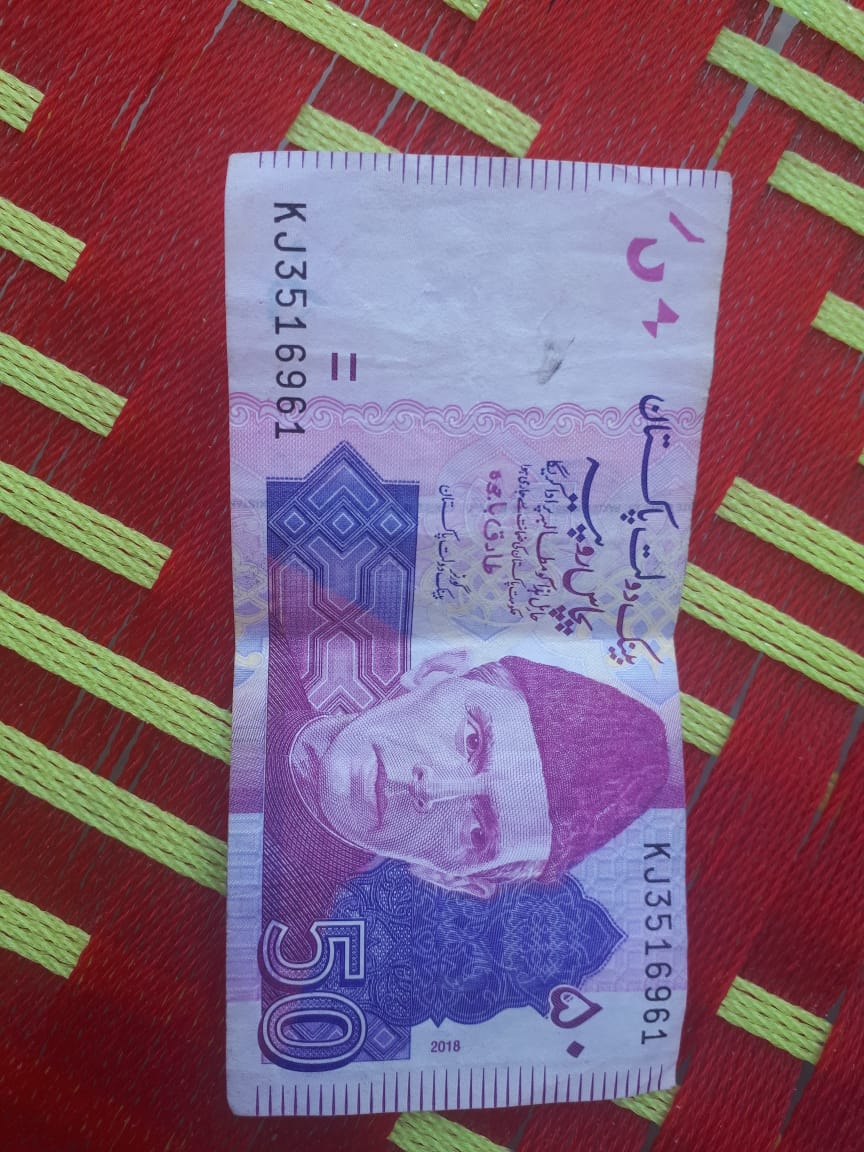50 rupee: (207, 113, 736, 1145)
